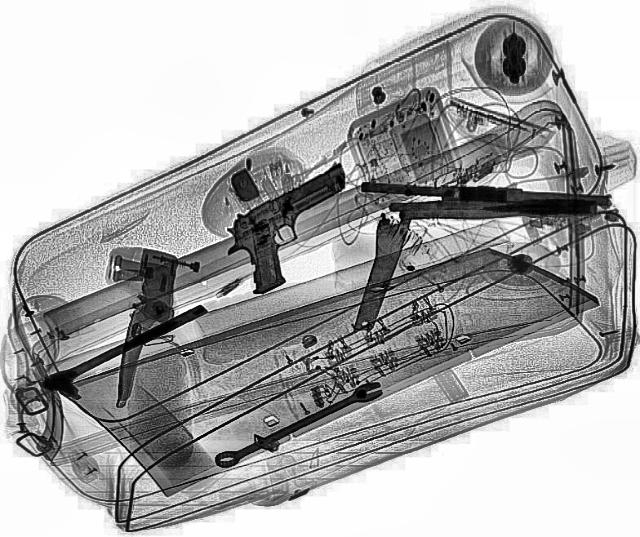Gun: (199, 160, 397, 296)
Wrench: (210, 376, 388, 472)
